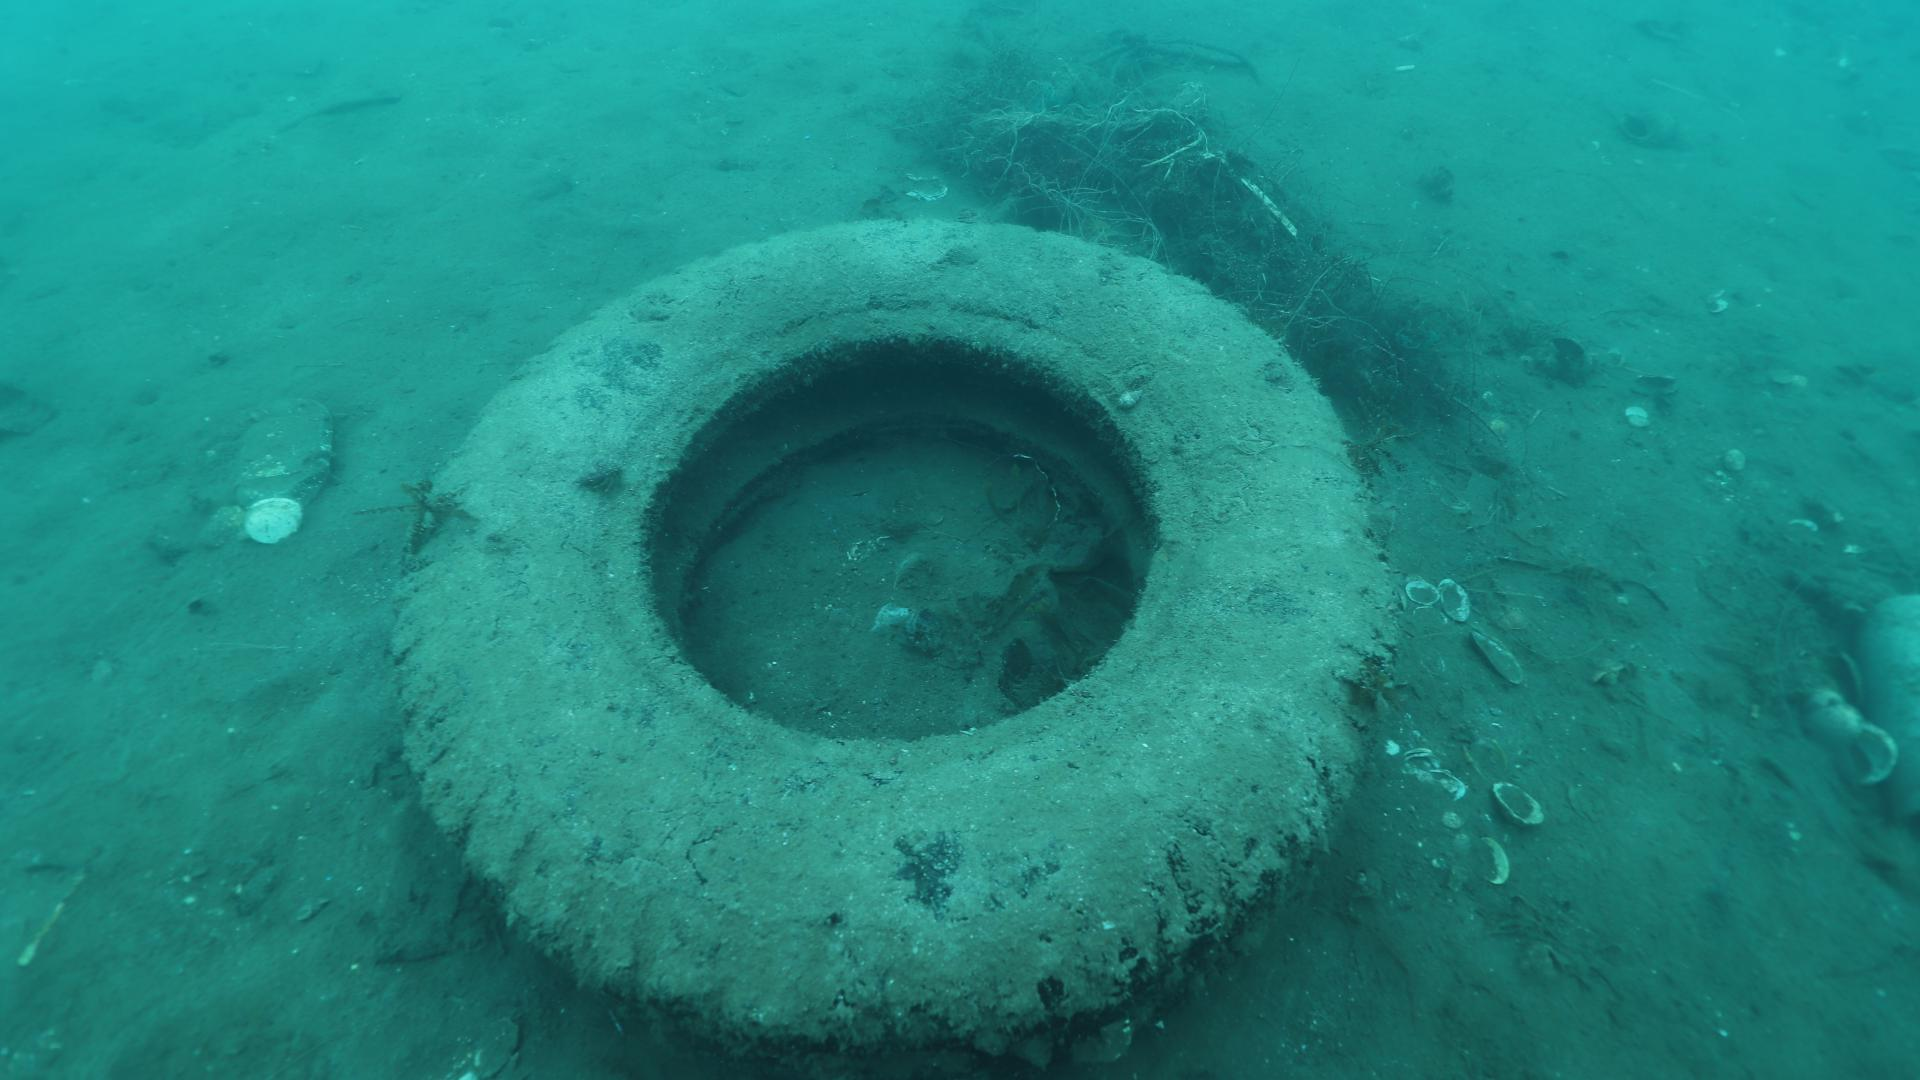tire: (389, 214, 1379, 1040)
